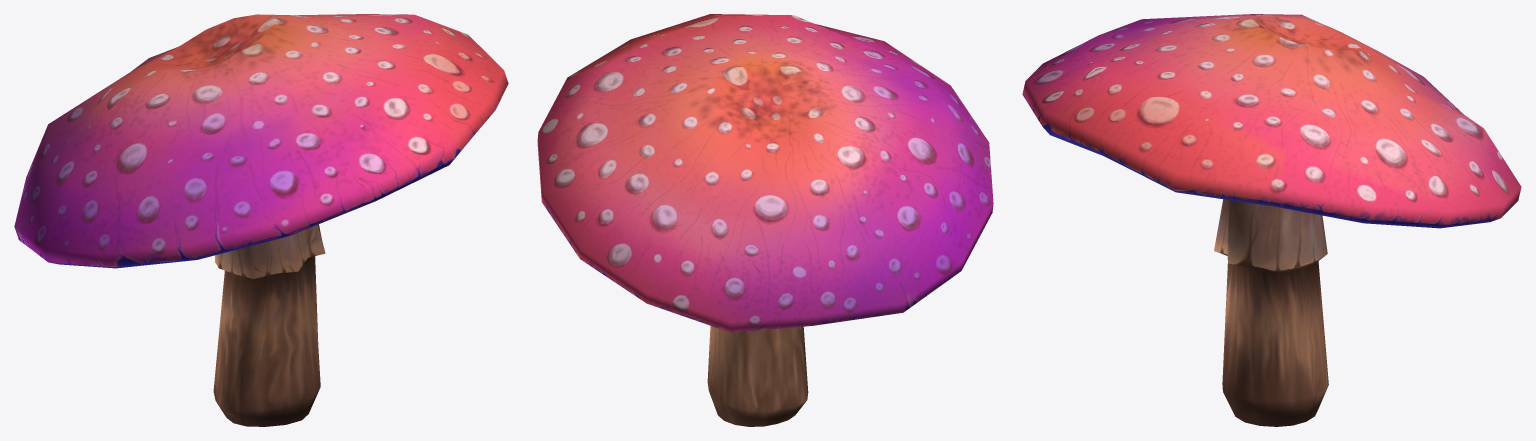
The model's file is mushroom.glb.
3 views of the same model, side by side, from view 1: azimuth 30°, elevation 25°; view 2: azimuth 150°, elevation 25°; view 3: azimuth 270°, elevation 25° (orthographic). The views are drawn at different scales.
Visible parts, largest first — view 1: Circle_0; view 2: Circle_0; view 3: Circle_0.
Part boxes in pixels (box(x1,y1,x2,y2)): Circle_0: box(14, 14, 508, 426); Circle_0: box(537, 14, 993, 426); Circle_0: box(1022, 14, 1521, 426).
Size of the model in its own units: 8.21 by 6.95 by 8.24.
1 material, 1 textured.
